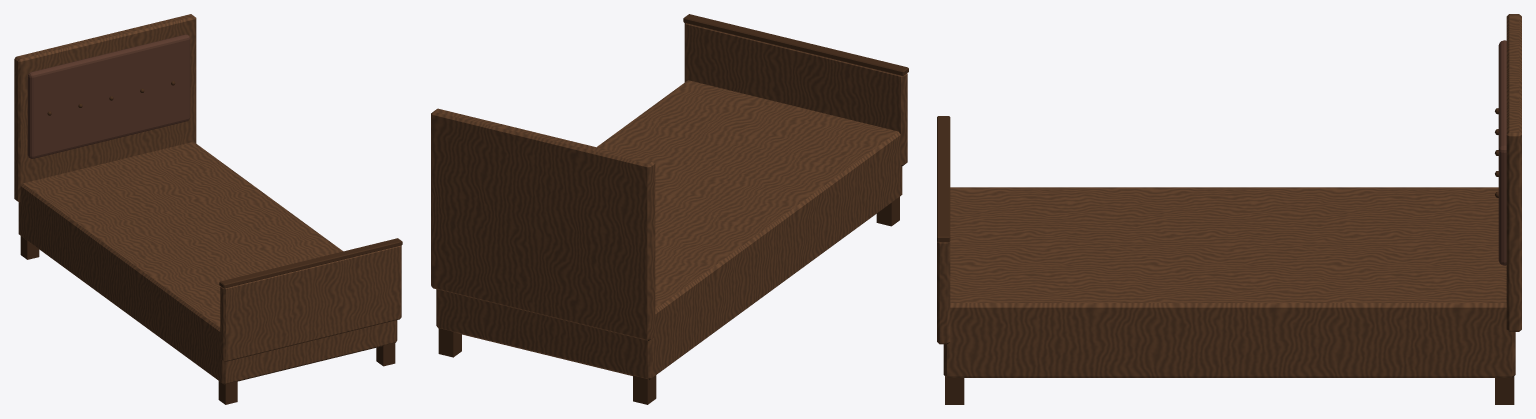
Rendered from bed_frame.glb.
3 views of the same model, side by side, from view 1: azimuth 30°, elevation 25°; view 2: azimuth 150°, elevation 25°; view 3: azimuth 270°, elevation 25° (orthographic). The views are drawn at different scales.
Parts seen in each view (by area): view 1: bed_frame; view 2: bed_frame; view 3: bed_frame.
Boxes of the visible parts, x1,y1,x2,y2 form: bed_frame: (14,14,402,404); bed_frame: (431,14,908,404); bed_frame: (937,14,1521,404).
Size of the model in its own units: 1.04 by 1.1 by 2.13.
3 materials, 1 textured.
